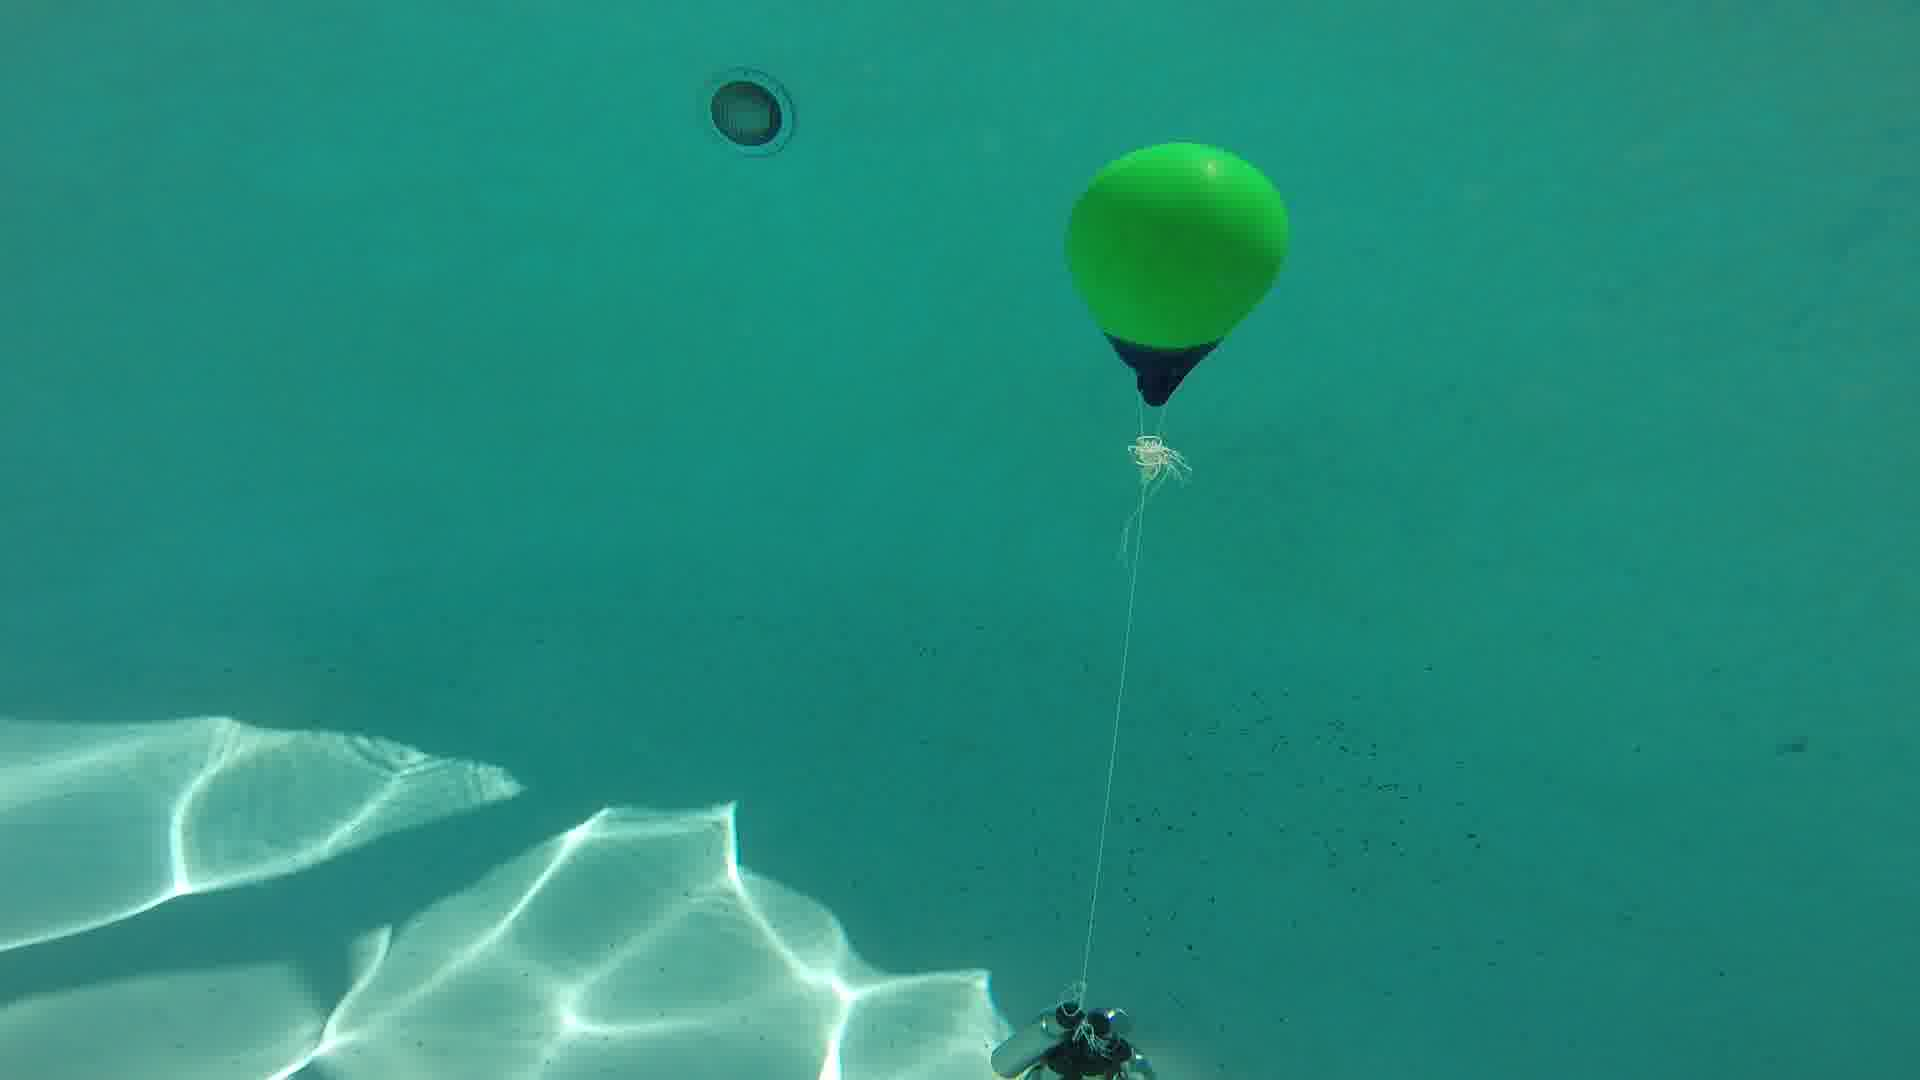yellow_buoy: (1062, 140, 1294, 407)
